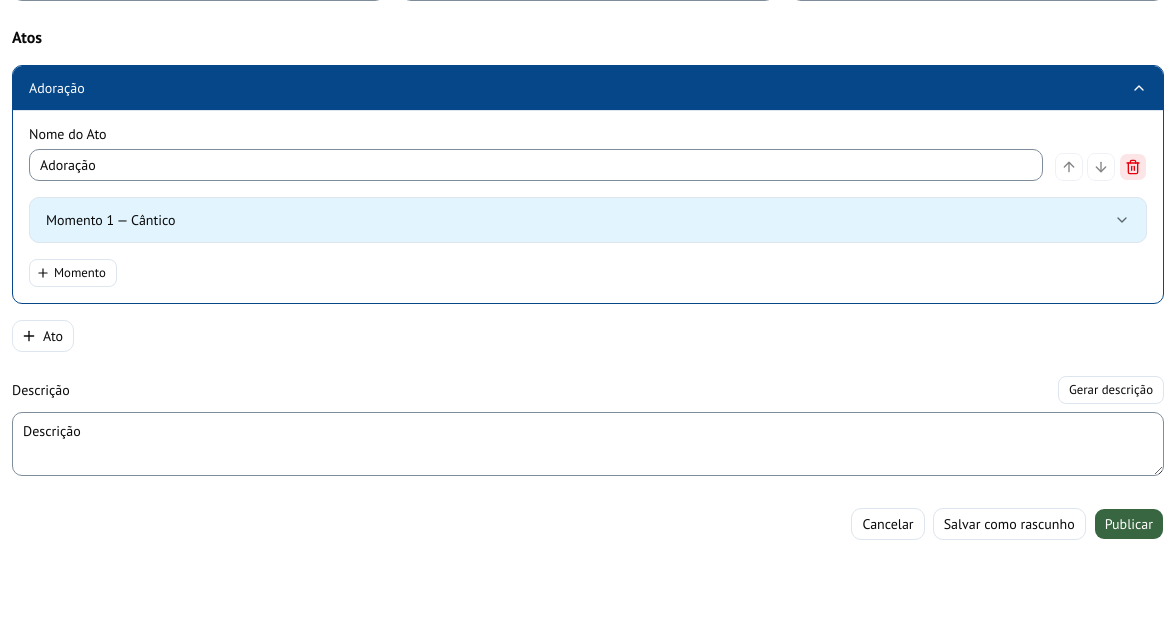
Test: LiturgyForm Cântico › chooses a Cântico with the keyboard alone
Click the button "Momento 1 — Cântico".
click(76, 220)  # box [30, 198, 1146, 242]
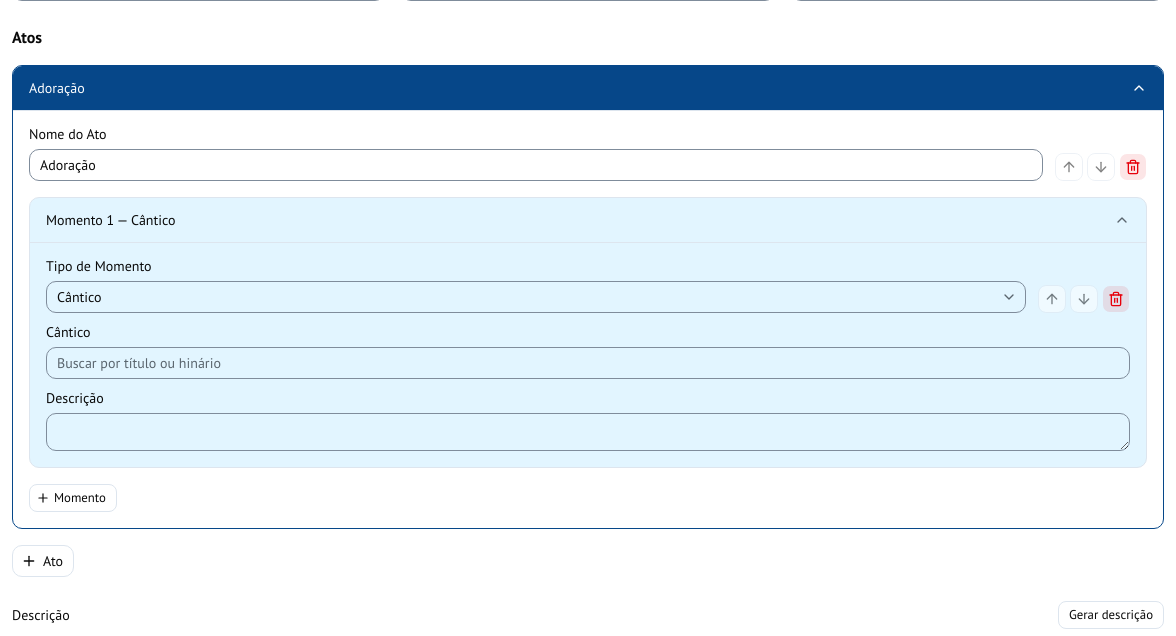
Type "o" into the dropdown labelled "Cântico".
click(588, 363); type("o")  # box [46, 347, 1130, 379]
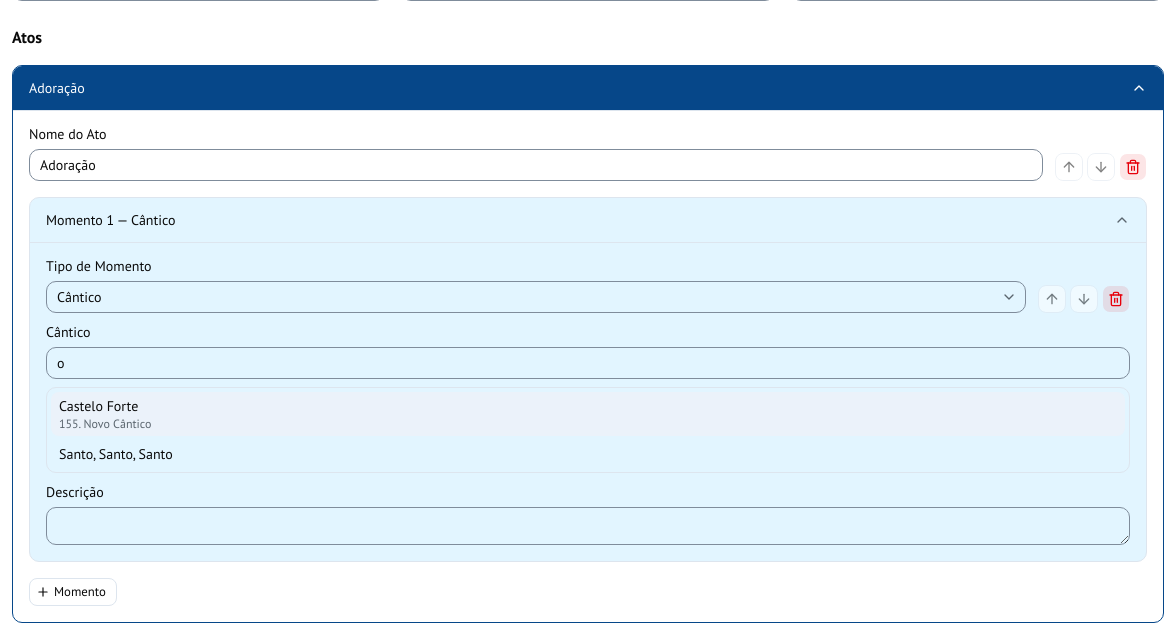
Press ArrowDown in the dropdown labelled "Cântico", box [46, 347, 1130, 379]
Press Enter in the dropdown labelled "Cântico", box [46, 347, 1130, 379]
(page scrolled)
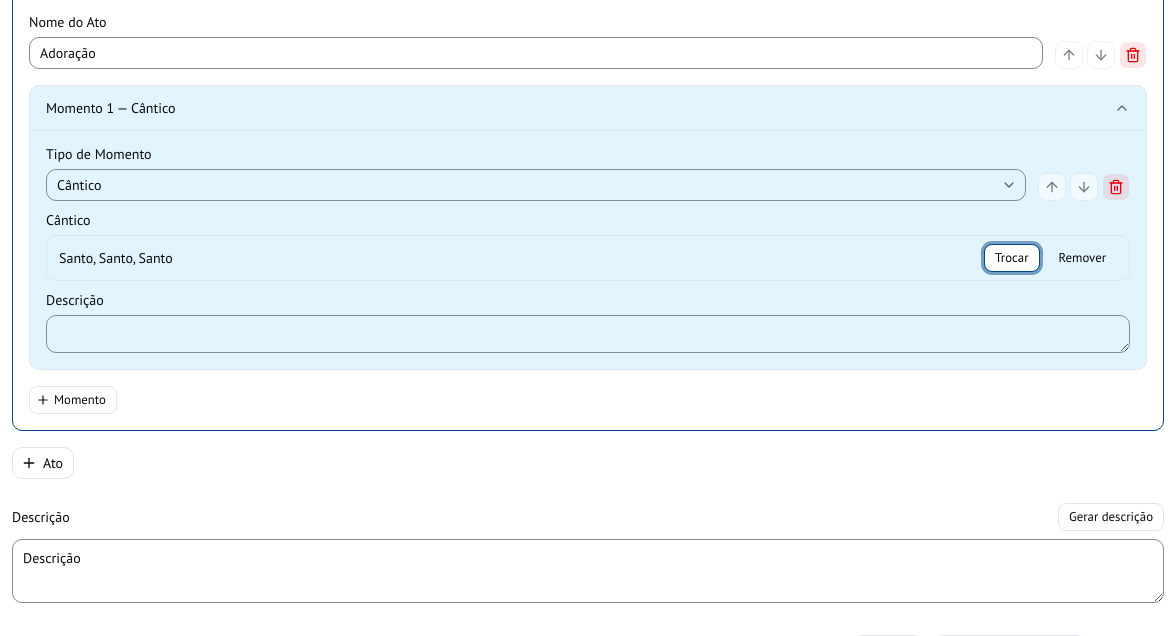
Check: the element named "Cântico selecionado" shows "Santo, Santo, Santo", box [59, 249, 173, 267]
